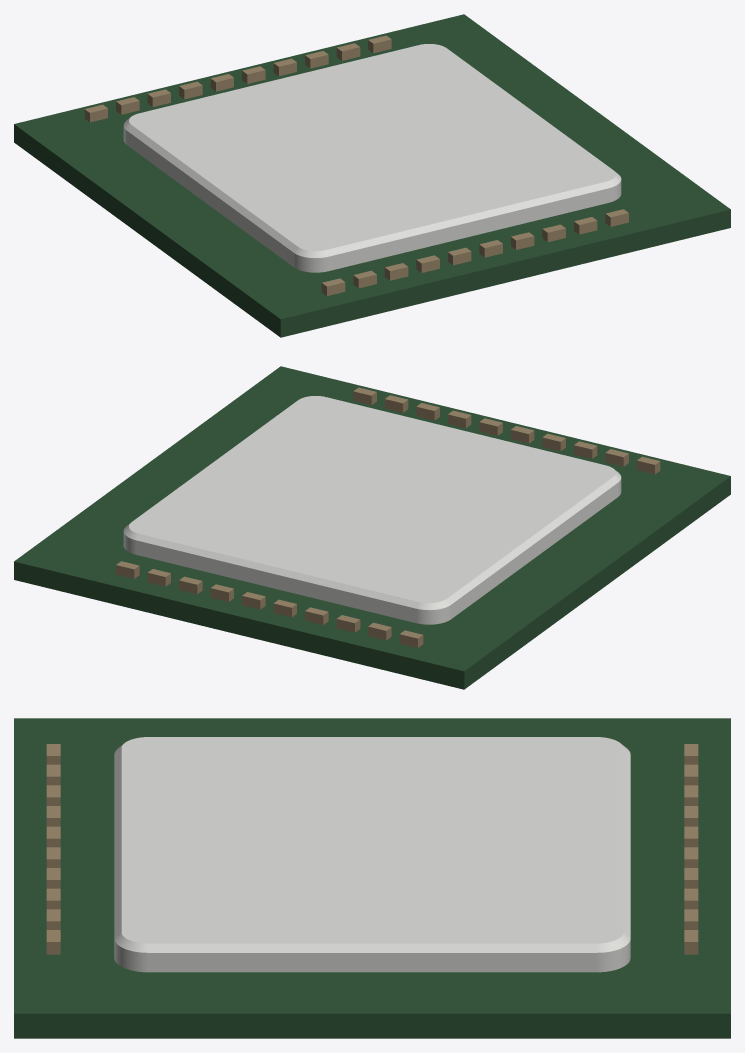
File: heat-source.glb
The picture shows the model from 3 angles, top to bottom: view 1: azimuth 30°, elevation 25°; view 2: azimuth 150°, elevation 25°; view 3: azimuth 270°, elevation 25°; orthographic projection. The views are drawn at different scales.
Visible parts, largest first — view 1: heat_source; view 2: heat_source; view 3: heat_source.
Boxes of the visible parts, x1,y1,x2,y2 form: heat_source: (14, 14, 730, 337); heat_source: (14, 366, 730, 689); heat_source: (14, 718, 730, 1038).
Size of the model in its own units: 24.62 by 2.62 by 25.26.
